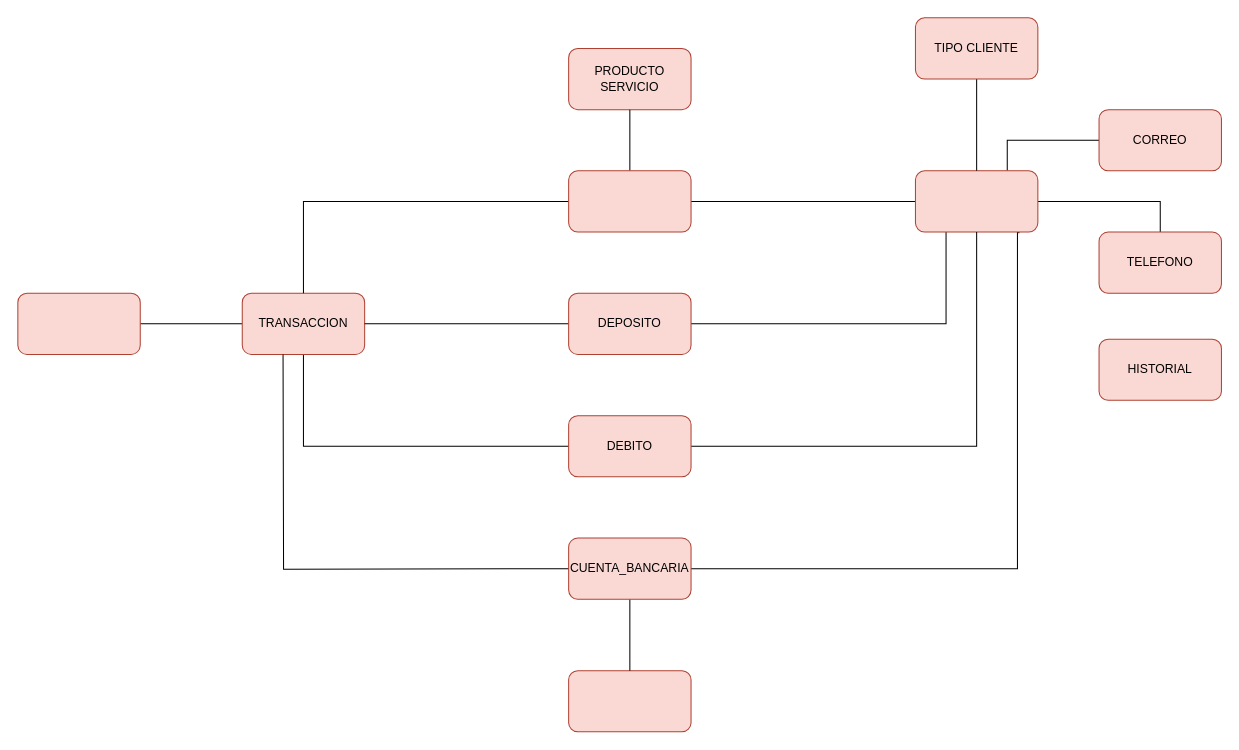
The diagram is 1239 pixels wide and 750 high, and some of its shapes have lost their labels. The box of each missing label's shape, as (x1, y1, x2, y2) in pixels:
CLIENTE: (914, 170, 1038, 232)
COMPRA: (568, 170, 691, 232)
TIPO CUENTA: (568, 670, 691, 732)
TIPO TRANSACCION: (17, 292, 140, 354)
